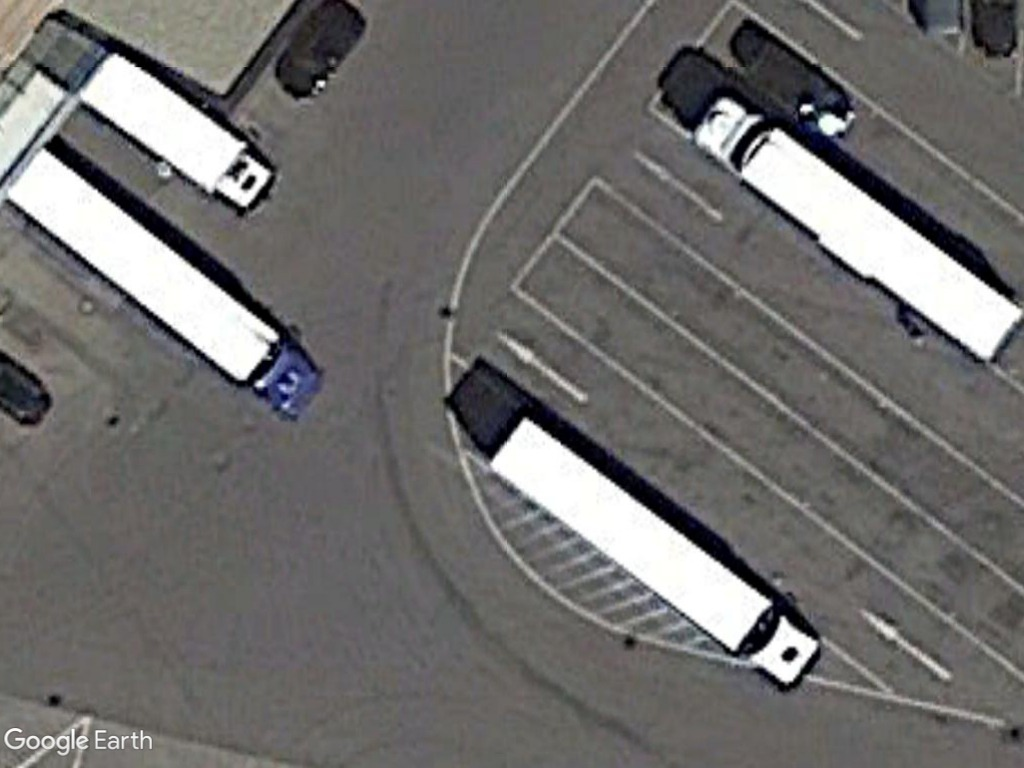longvehicle: (479, 401, 825, 698), (686, 85, 1024, 378), (0, 142, 328, 424)
truck: (79, 46, 280, 211)
